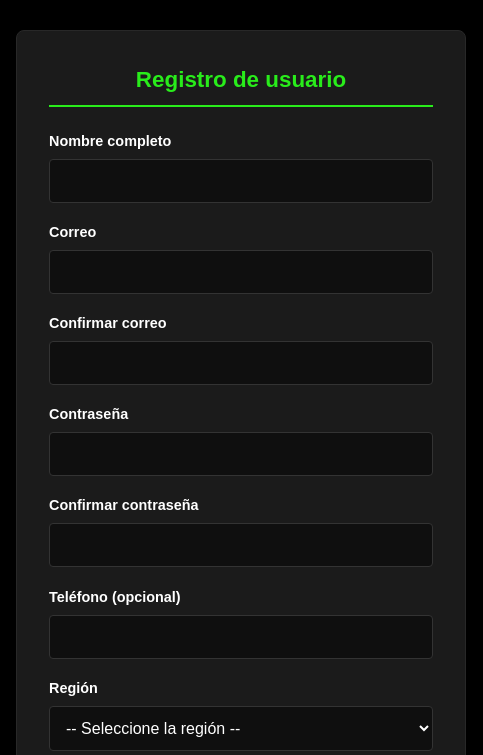
Test case: Registro › valida que ambas contraseñas coincidan
Type "Clave123!" into the password field labelled "Contraseña". click: (241, 454)
box: [49,432,433,476]
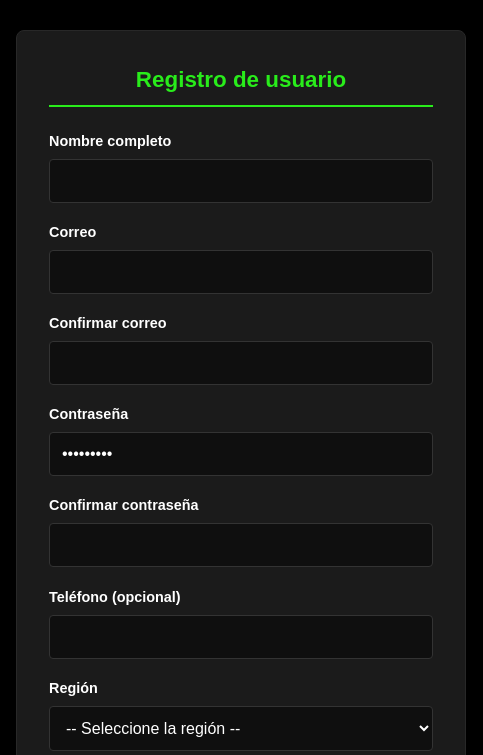
Type "OtraClave123!" into the password field labelled "Confirmar contraseña". click: (241, 545)
box: [49,523,433,567]
(page scrolled)
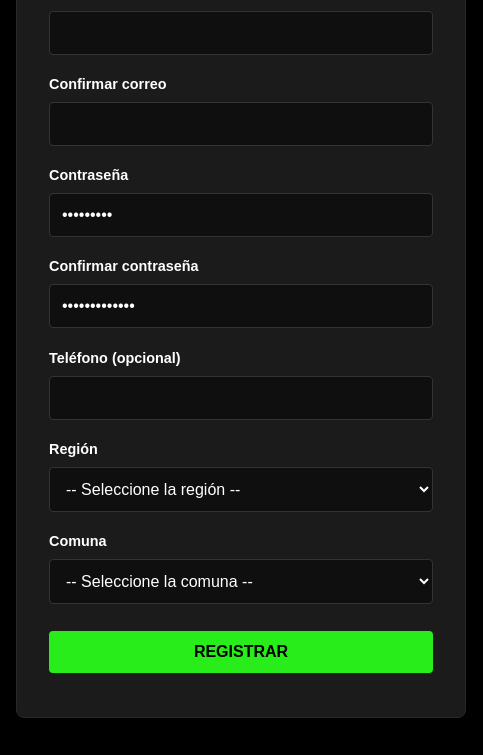
Click the button "Registrar". click: click(241, 652)
box: [49,631,433,673]
(page scrolled)
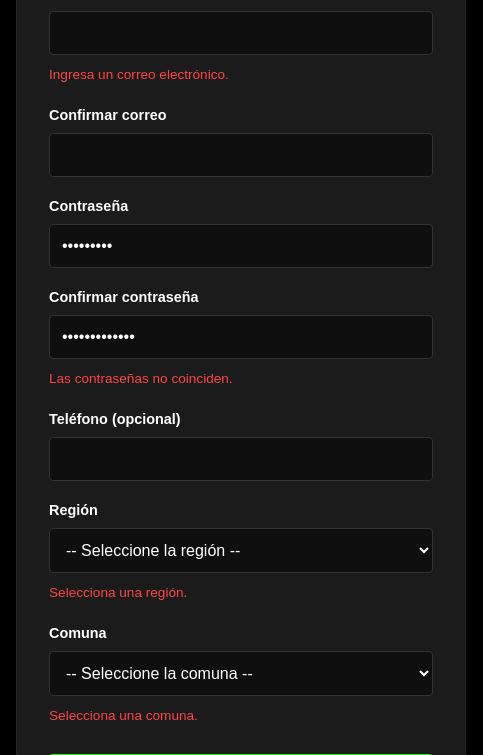
Check: the text "Las contraseñas no coinciden." is shown, box [49,371,233,386]
